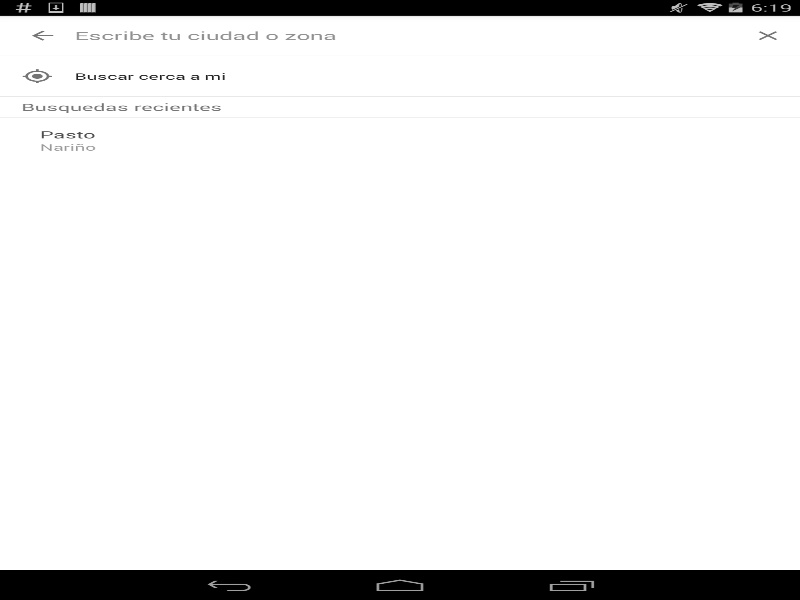Button: (21, 61, 225, 91), (0, 18, 74, 53)
Input: (74, 27, 736, 43)
